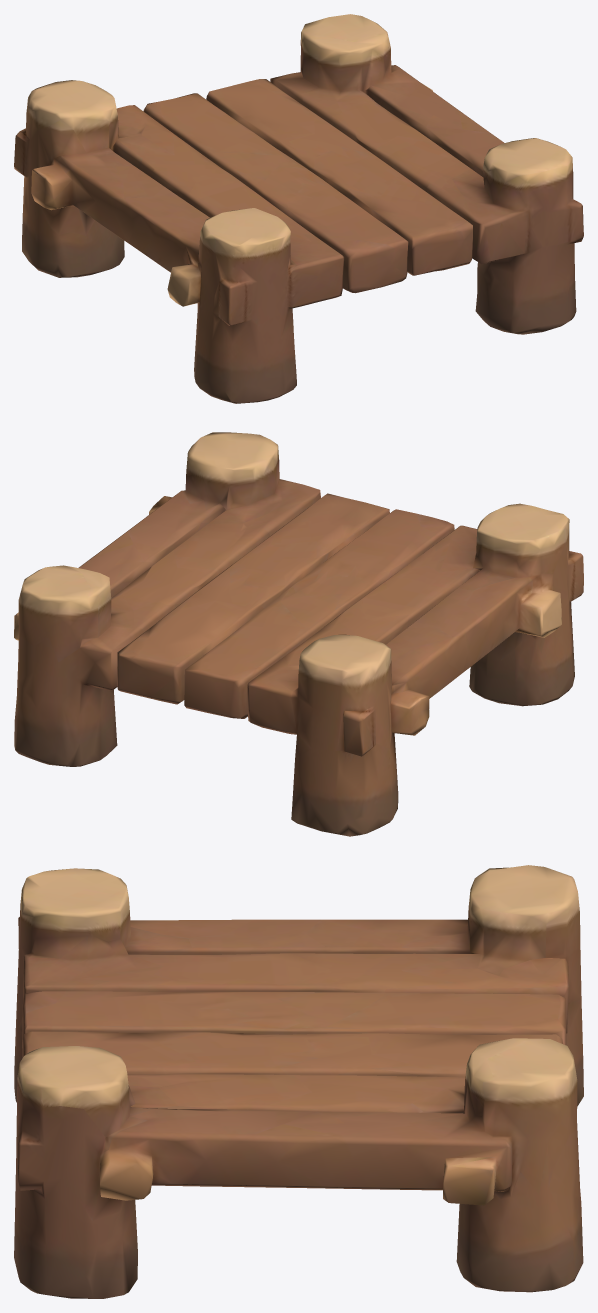
Rendered from pier.glb.
3 renders of one model, top to bottom at view 1: azimuth 30°, elevation 25°; view 2: azimuth 150°, elevation 25°; view 3: azimuth 270°, elevation 25°, orthographic. The views are drawn at different scales.
Parts seen in each view (by area): view 1: tripo_node_408ac017-5069-4bcf-94d7-dc863d59ea08; view 2: tripo_node_408ac017-5069-4bcf-94d7-dc863d59ea08; view 3: tripo_node_408ac017-5069-4bcf-94d7-dc863d59ea08.
Part boxes in pixels (bbox=[...]): tripo_node_408ac017-5069-4bcf-94d7-dc863d59ea08: bbox=[14, 14, 583, 403]; tripo_node_408ac017-5069-4bcf-94d7-dc863d59ea08: bbox=[14, 432, 583, 836]; tripo_node_408ac017-5069-4bcf-94d7-dc863d59ea08: bbox=[14, 865, 583, 1298].
Size of the model in its own units: 1 by 0.3997 by 0.9753.
1 material, 1 textured.
